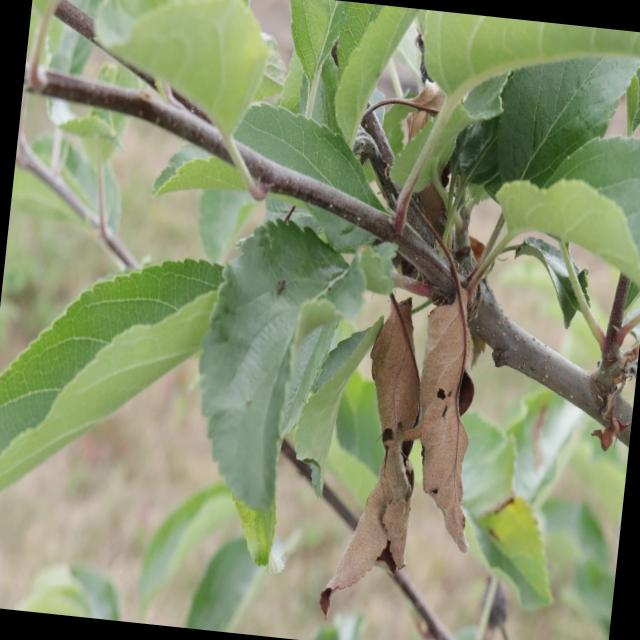-FireBlight-: (318, 281, 486, 608)
